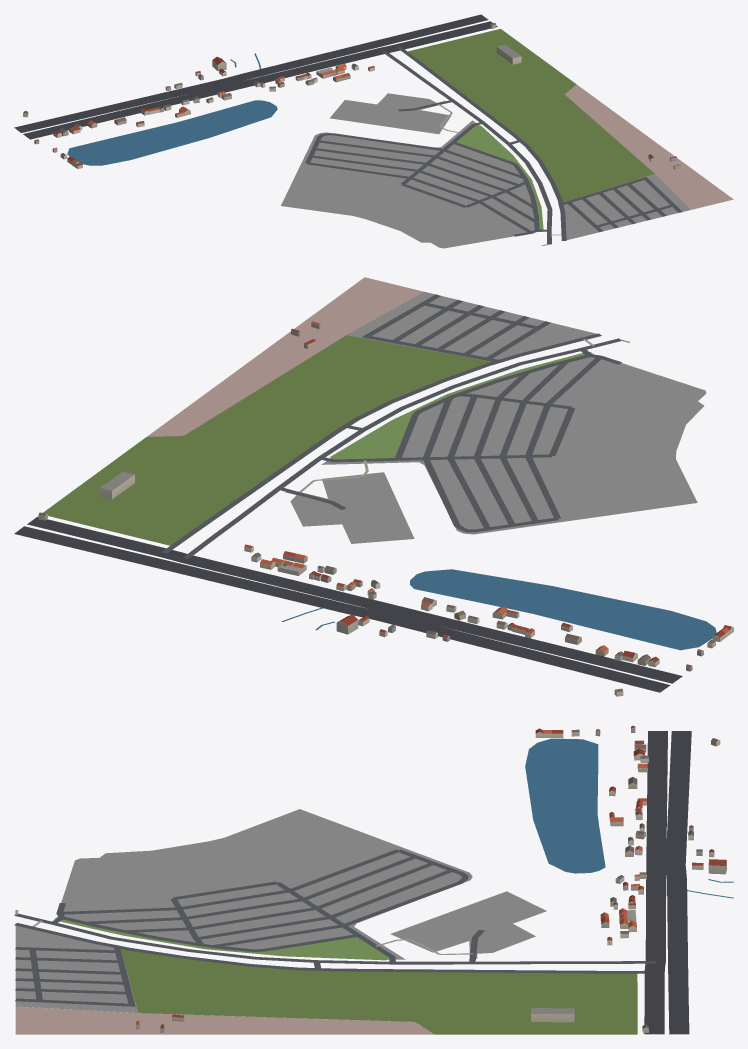
3 renders of one model, top to bottom at view 1: azimuth 30°, elevation 25°; view 2: azimuth 150°, elevation 25°; view 3: azimuth 270°, elevation 25°, orthographic. The views are drawn at different scales.
Visible parts, largest first — view 1: landuse, roads, water, buildings_walls, buildings_roofs; view 2: landuse, roads, water, buildings_walls, buildings_roofs; view 3: landuse, roads, water, buildings_walls, buildings_roofs.
Boxes of the visible parts, x1,y1,x2,y2 form: landuse: (281, 29, 733, 248); roads: (14, 14, 682, 245); water: (67, 53, 277, 165); buildings_walls: (23, 24, 680, 169); buildings_roofs: (23, 23, 680, 166); landuse: (43, 277, 706, 545); roads: (14, 294, 682, 692); water: (281, 569, 716, 650); buildings_walls: (38, 322, 733, 696); buildings_roofs: (38, 321, 731, 692); landuse: (15, 809, 637, 1034); roads: (14, 731, 691, 1034); water: (525, 738, 733, 898); buildings_walls: (136, 727, 726, 1033); buildings_roofs: (136, 725, 726, 1028).
Bounding box in the file's own units: 501 × 9.06 × 501.
